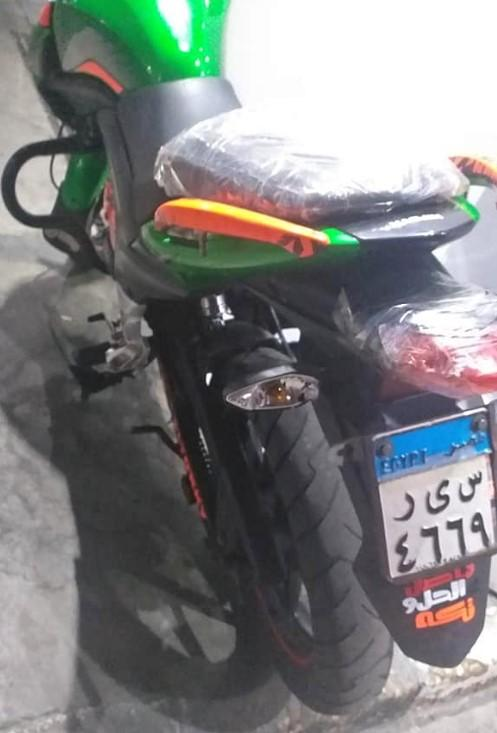License Plate: (368, 410, 497, 583)
